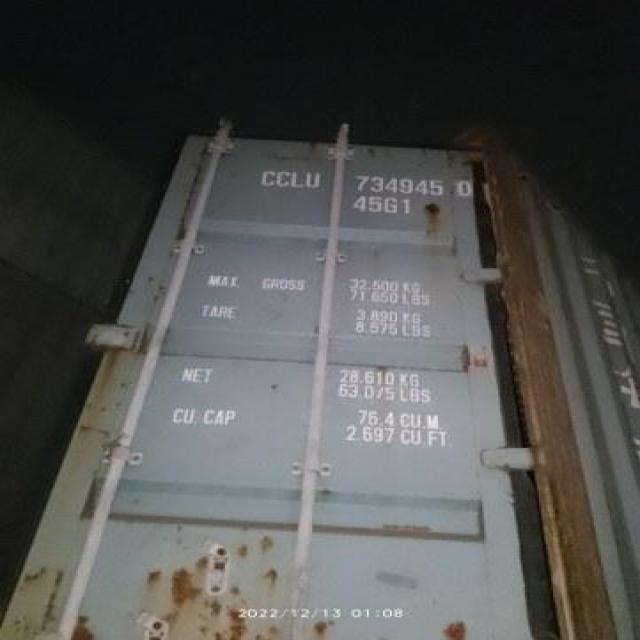ISO: (351, 198, 412, 216)
container_number: (259, 167, 483, 198)
